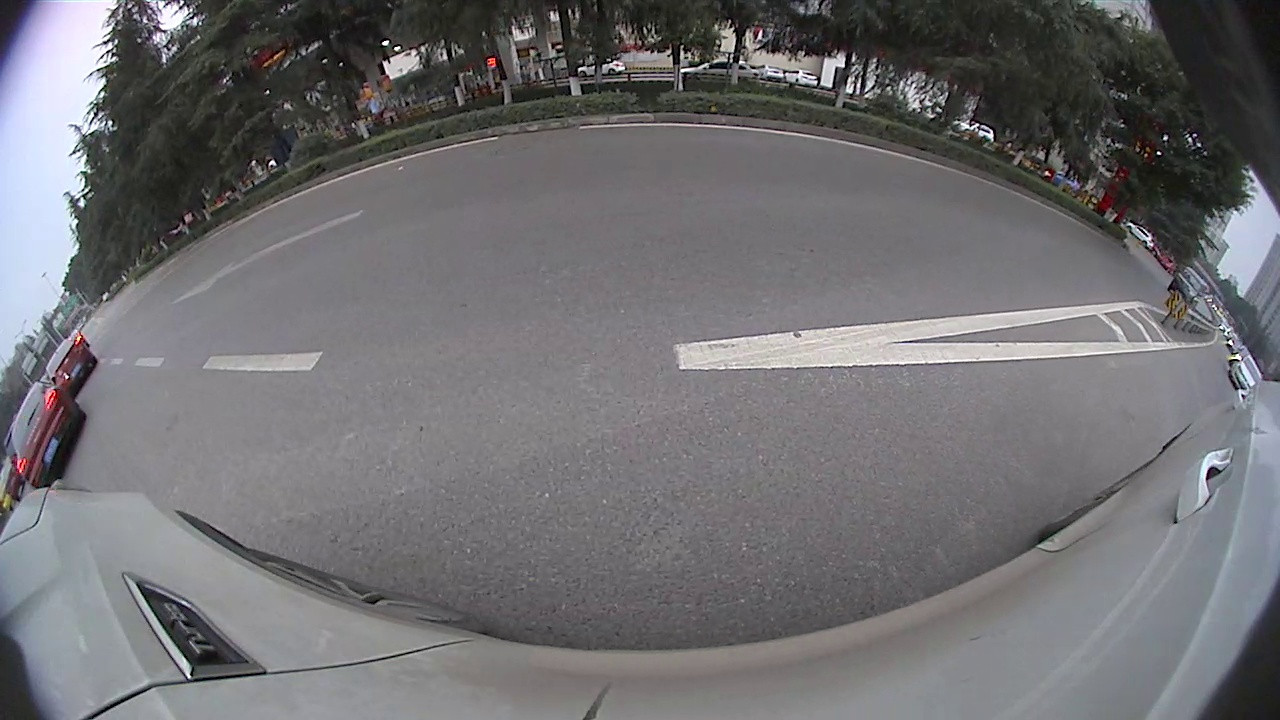car: (8, 383, 83, 489), (48, 333, 96, 391), (1171, 263, 1212, 306)
